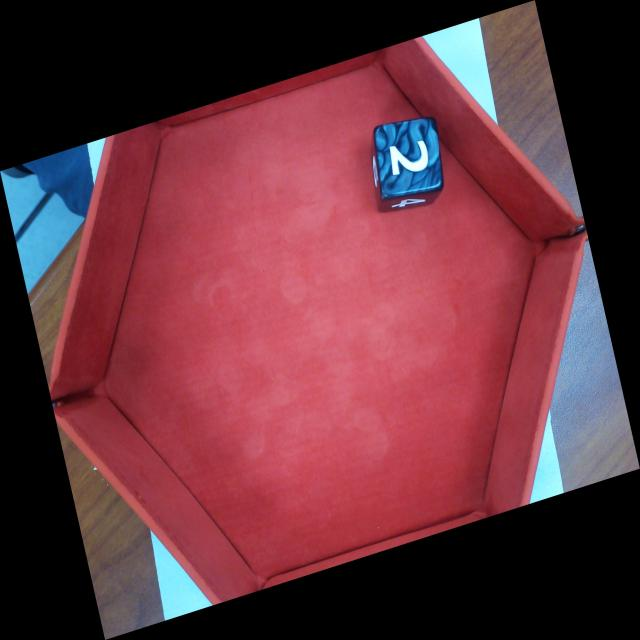dice: (375, 123, 441, 191)
